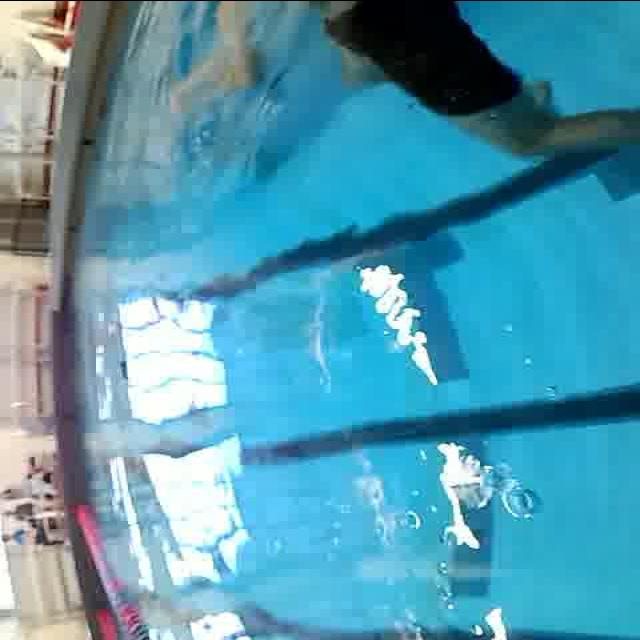CamMount: (115, 354, 140, 382)
